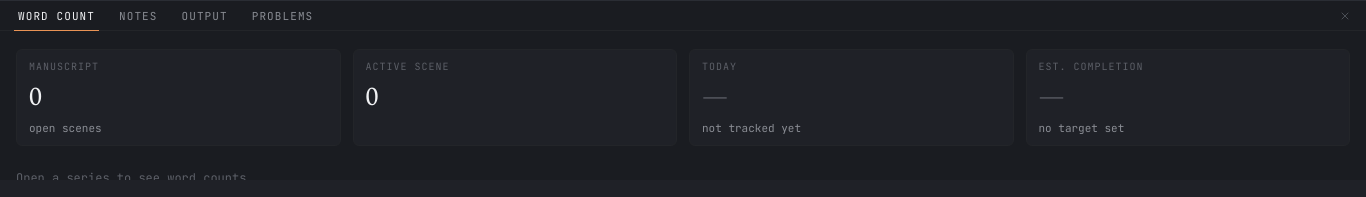
Test: BottomPanel checklist behavior › shows no-active-scene message and disables add input
Click the text "Notes" at (138, 16), box [119,8,158,22]
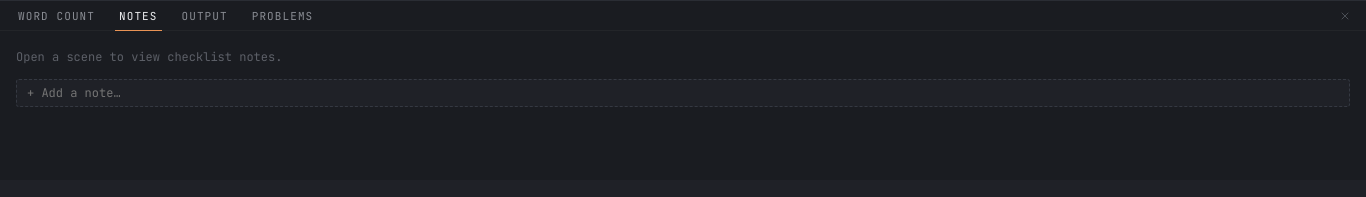
Now the text "Open a scene to view checklist notes." is shown, box [16,49,282,65]
Now the field with placeholder "+ Add a note…" is disabled, box [16,79,1350,107]
